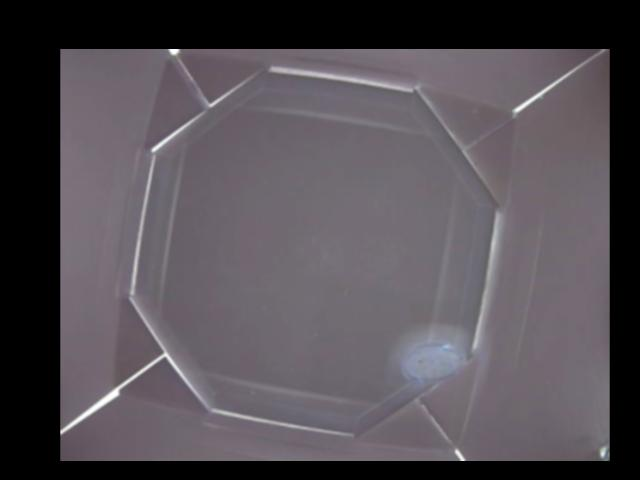Pebble: (403, 340, 465, 392)
